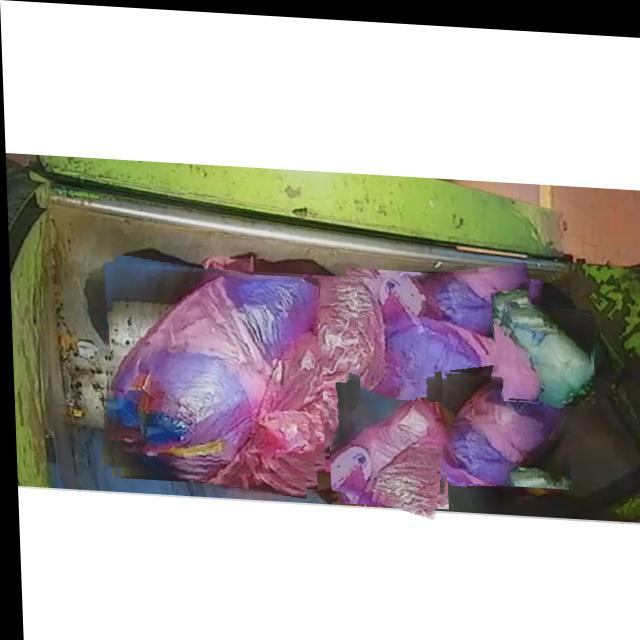general_trashbag: (505, 299, 590, 397)
other_trashbag: (107, 271, 317, 474), (359, 272, 542, 433), (255, 272, 393, 455), (442, 375, 560, 480), (327, 396, 445, 487)
